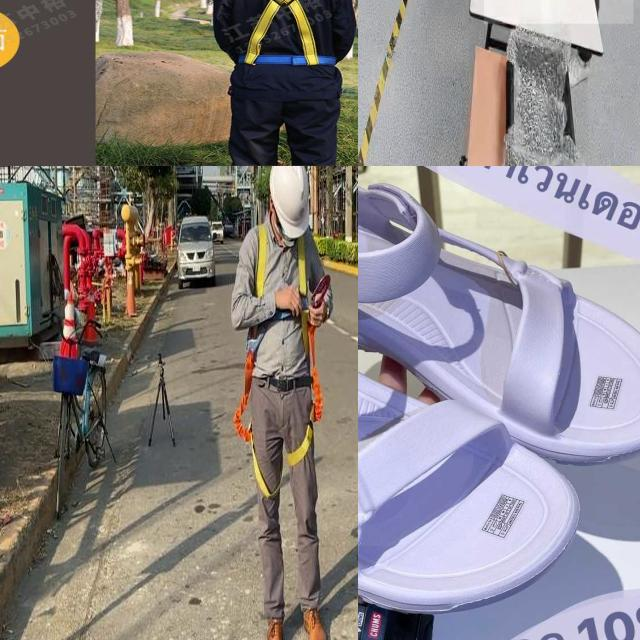Harness: (286, 237, 323, 468), (237, 0, 343, 73), (233, 325, 275, 498)
Sandals: (358, 166, 640, 626)
